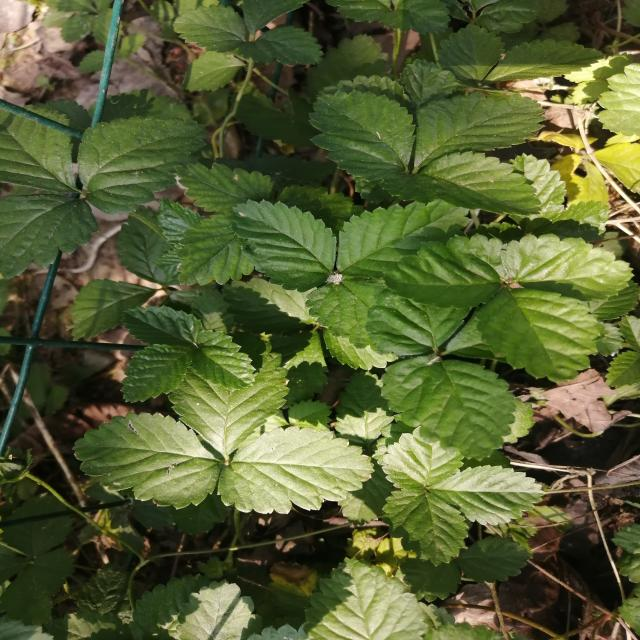Mock_strawberry: (273, 172, 621, 399), (49, 300, 384, 511), (0, 112, 245, 260)
